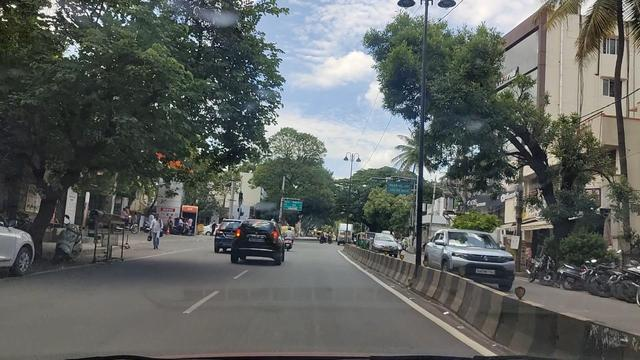LMV: (237, 214, 290, 272)
